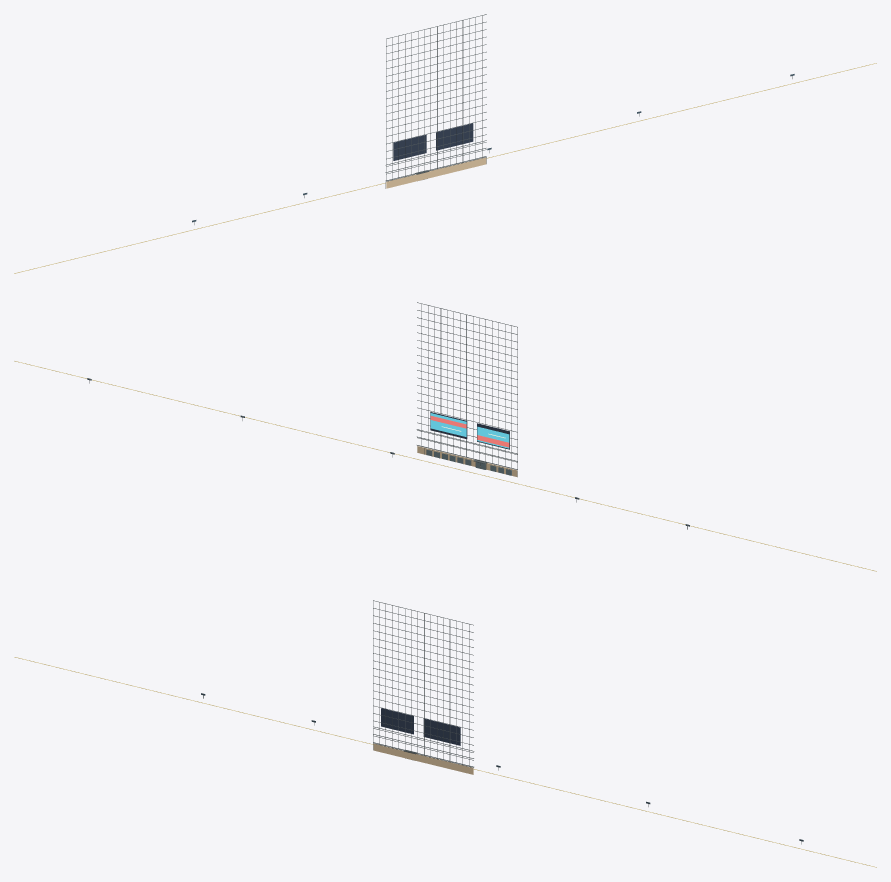
File: 20261103-east-kt-detail.glb
The picture shows the model from 3 angles, top to bottom: view 1: azimuth 30°, elevation 25°; view 2: azimuth 150°, elevation 25°; view 3: azimuth 330°, elevation 25°; orthographic projection.
Parts seen in each view (by area): view 1: KT West - photo 013 facade vertical mullions, KT West - photo 013 facade horizontal mullions, KT paired screen framing, Sidewalk tactile route, KT West - photo 013 ground floor glazing; view 2: KT West - photo 013 facade vertical mullions, KT West - photo 013 facade horizontal mullions, Sidewalk tactile route, KT original screen graphic cyan; view 3: KT West - photo 013 facade vertical mullions, KT West - photo 013 facade horizontal mullions, KT paired screen framing, Sidewalk tactile route, KT West - photo 013 ground floor glazing.
Boxes of the visible parts, x1,y1,x2,y2 form: KT West - photo 013 facade vertical mullions: (386,16,482,181); KT West - photo 013 facade horizontal mullions: (386,14,486,181); KT paired screen framing: (393,123,473,160); Sidewalk tactile route: (14,63,876,273); KT West - photo 013 ground floor glazing: (386,157,486,188); KT West - photo 013 facade vertical mullions: (421,304,517,469); KT West - photo 013 facade horizontal mullions: (417,302,517,462); Sidewalk tactile route: (14,361,876,571); KT original screen graphic cyan: (430,413,509,448); KT West - photo 013 facade vertical mullions: (373,601,469,766); KT West - photo 013 facade horizontal mullions: (373,600,473,767); KT paired screen framing: (381,708,460,745); Sidewalk tactile route: (14,657,876,867); KT West - photo 013 ground floor glazing: (373,744,473,774).
Bounding box in the file's own units: 444 × 74.02 × 10.02.
